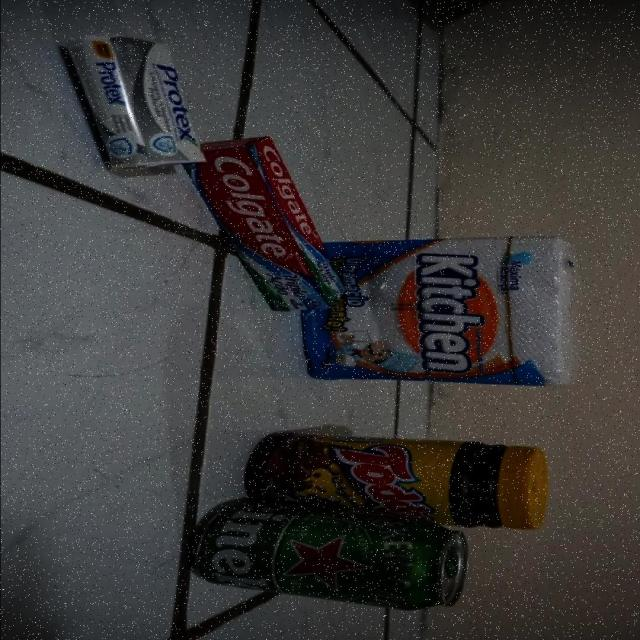BeerCan: (188, 508, 472, 611)
ChocolatePowder: (238, 430, 544, 506)
Napkin: (344, 237, 572, 385)
Soap: (60, 39, 207, 170)
Toothpaste: (210, 140, 341, 315)
